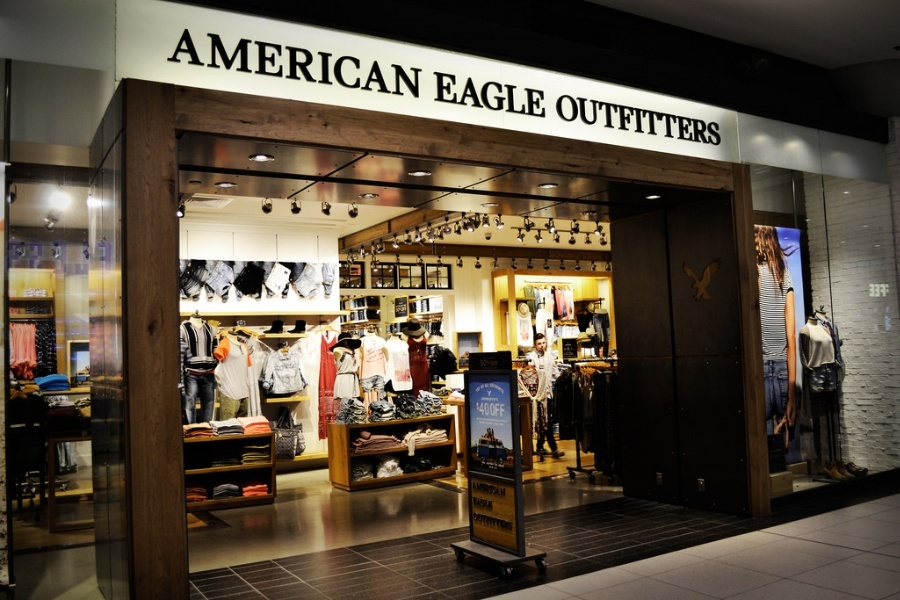text: (193, 26, 208, 99), (209, 26, 224, 99), (225, 26, 240, 99), (241, 26, 256, 99), (257, 26, 272, 99), (273, 26, 288, 99), (289, 26, 304, 99), (305, 26, 320, 99), (321, 26, 336, 99), (337, 26, 352, 99), (353, 26, 368, 99), (369, 26, 384, 99), (385, 26, 400, 99), (401, 26, 416, 99), (179, 26, 192, 99), (561, 91, 576, 147), (577, 91, 592, 147), (593, 91, 608, 147), (609, 91, 624, 147), (625, 91, 640, 147), (641, 91, 656, 147), (657, 91, 672, 147), (673, 91, 688, 147), (689, 91, 704, 147), (705, 91, 720, 147), (433, 68, 448, 119), (449, 68, 464, 119), (465, 68, 480, 119), (481, 68, 496, 119), (497, 68, 512, 119), (513, 68, 528, 119), (529, 68, 544, 119), (417, 26, 423, 99), (481, 511, 496, 533), (497, 511, 512, 533), (481, 480, 496, 499), (481, 402, 496, 418), (481, 496, 496, 511), (497, 480, 508, 499), (867, 282, 880, 298), (481, 384, 496, 397), (481, 416, 496, 428), (472, 511, 480, 533), (471, 480, 480, 499), (557, 91, 560, 147), (497, 416, 510, 428), (497, 402, 506, 418), (881, 282, 890, 298), (471, 496, 480, 511), (497, 384, 507, 397), (471, 384, 480, 397), (721, 91, 723, 147), (481, 360, 496, 367), (474, 416, 480, 428), (513, 511, 516, 533), (476, 402, 480, 418), (545, 68, 546, 119), (497, 360, 498, 367)
